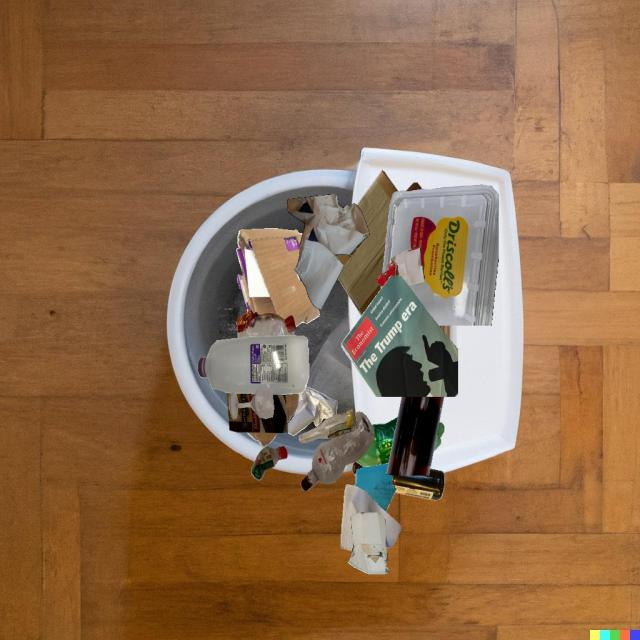cardboard: (336, 170, 399, 316), (236, 228, 319, 327), (348, 512, 389, 574), (227, 393, 288, 433), (247, 432, 278, 446), (286, 393, 299, 422)
glass: (387, 396, 444, 476), (299, 409, 357, 443), (392, 469, 445, 501), (229, 387, 274, 419)
paper: (341, 276, 458, 397), (287, 194, 370, 309), (340, 484, 402, 551), (287, 386, 337, 436), (354, 463, 397, 512), (377, 247, 425, 287)
plastic: (382, 185, 499, 326), (198, 335, 309, 395), (301, 412, 374, 491), (356, 417, 398, 467), (236, 310, 296, 338), (251, 446, 287, 480)
